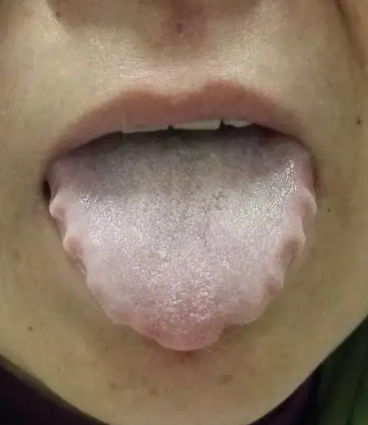baitaishe: (48, 134, 317, 350)
chihenshe: (257, 201, 316, 320), (49, 198, 90, 284)
